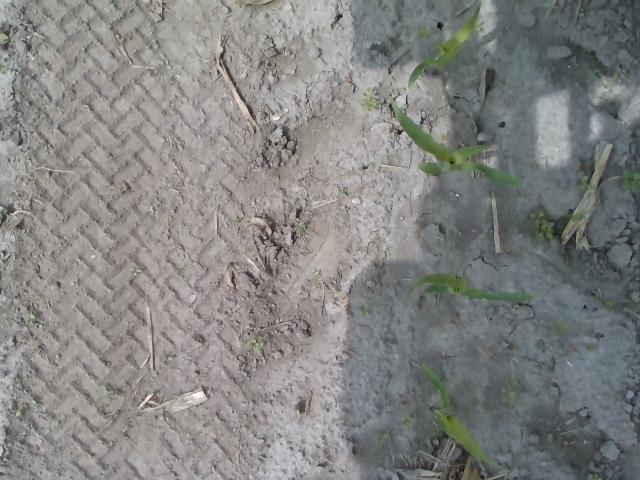Maize: (388, 98, 524, 190), (418, 364, 508, 471), (407, 0, 482, 90), (406, 272, 535, 308)
Weeds: (526, 209, 554, 241), (501, 374, 521, 404), (98, 384, 124, 402), (622, 169, 640, 194), (360, 87, 378, 110), (553, 320, 571, 338), (400, 413, 418, 431), (578, 178, 594, 194), (602, 298, 618, 312), (250, 335, 263, 352), (416, 24, 430, 38), (358, 304, 372, 317), (126, 266, 138, 280), (374, 432, 386, 445), (310, 268, 320, 280), (26, 312, 38, 322), (588, 68, 600, 77), (588, 473, 602, 480), (586, 343, 594, 352), (15, 410, 22, 418)
